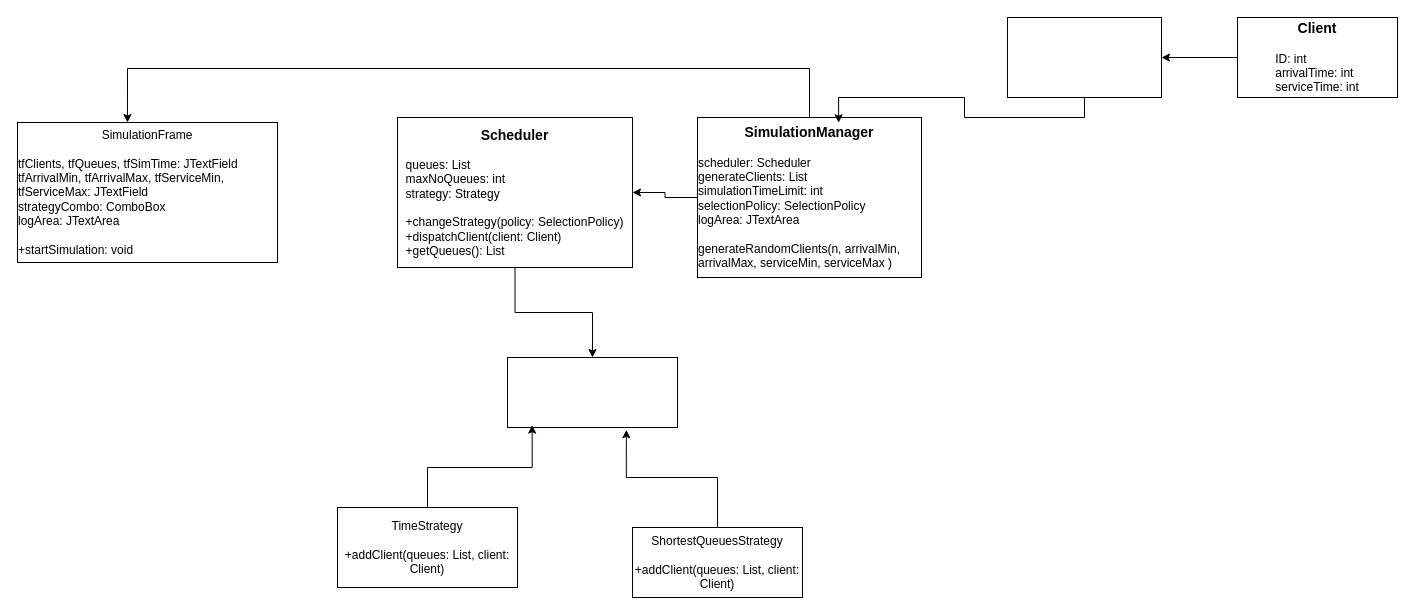
Image size: 1415x615. Some labels were removed from this diagram. The shapes that lost their labels are listed below. From the top down, each one's centre as x and y in pixels, then its label:
At pixel 1084 57: "Queue clients: LinkedList currentWaiting: int running: boolean".
At pixel 592 392: "Strategy +addClient(queues: List, client: Client)".
